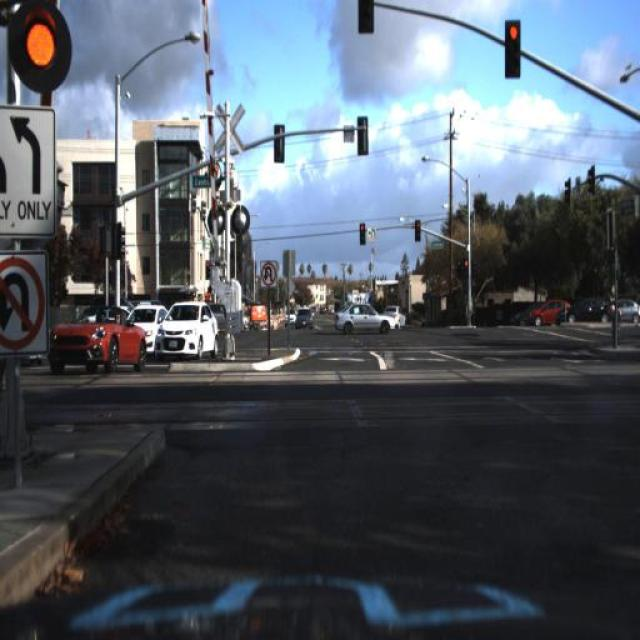car: (45, 304, 147, 376), (156, 300, 222, 366), (124, 303, 175, 353), (329, 301, 396, 337), (556, 293, 622, 329), (112, 304, 156, 356), (529, 296, 575, 330), (508, 300, 542, 328), (290, 300, 316, 332), (382, 297, 404, 332), (295, 305, 313, 329)
trafficLight-Green: (13, 2, 68, 86), (356, 1, 376, 35)
trafficLight-RedLeft: (503, 18, 522, 78), (412, 213, 423, 246), (462, 252, 471, 284), (358, 218, 367, 248), (414, 216, 420, 242)
